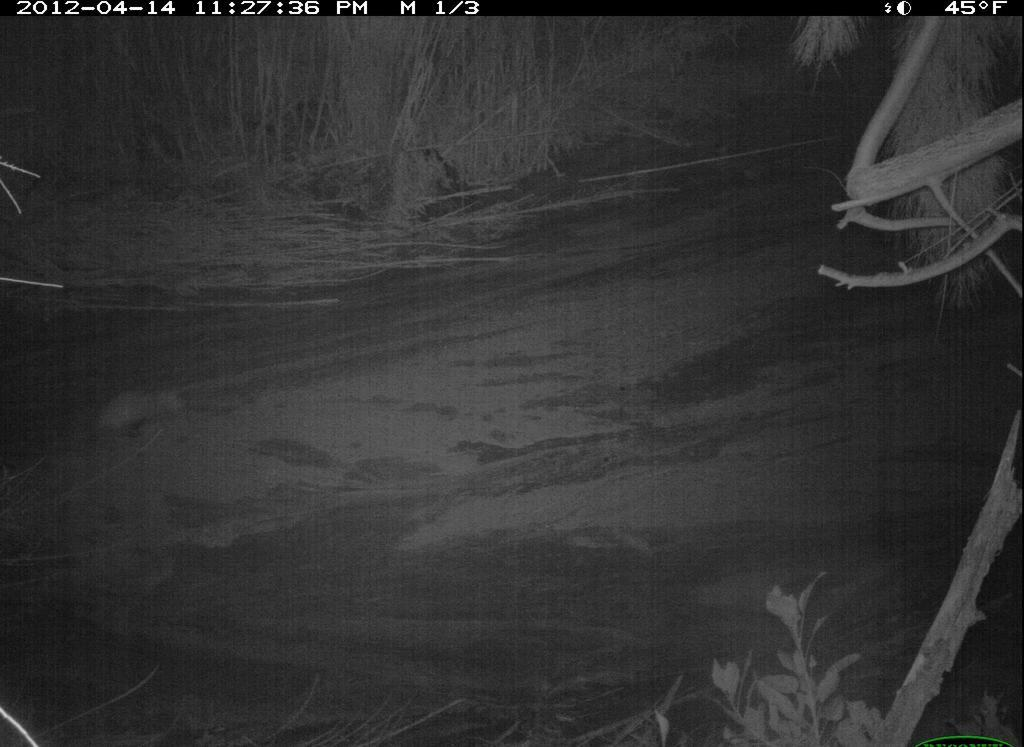opossum: (73, 378, 201, 451)
